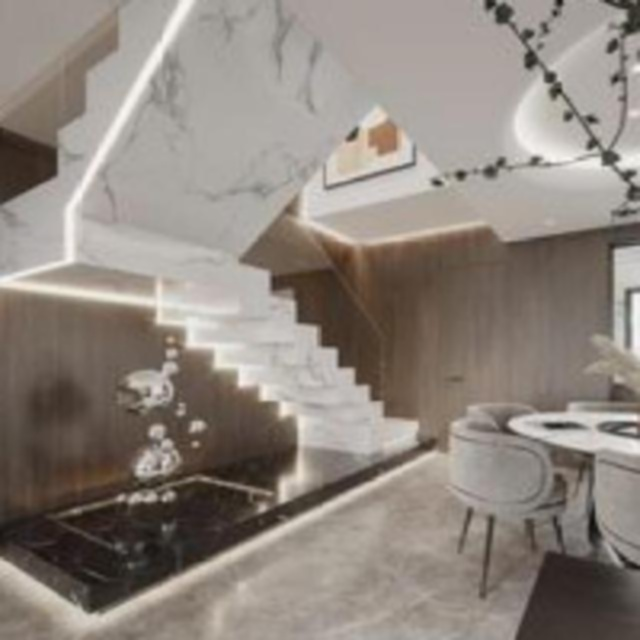stair: (192, 255, 432, 465)
